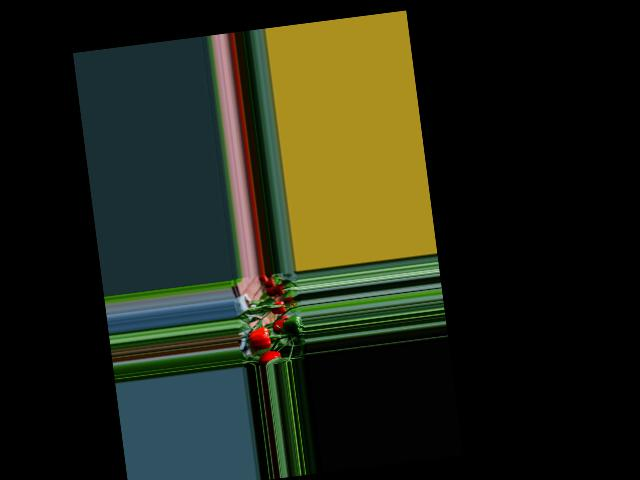bell_pepper: (266, 298, 289, 315)
